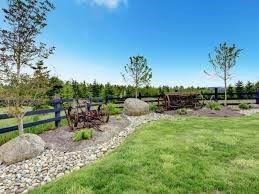grass: (38, 121, 256, 193)
rock: (0, 150, 79, 191), (80, 116, 147, 164), (0, 130, 45, 167), (122, 98, 149, 115)
